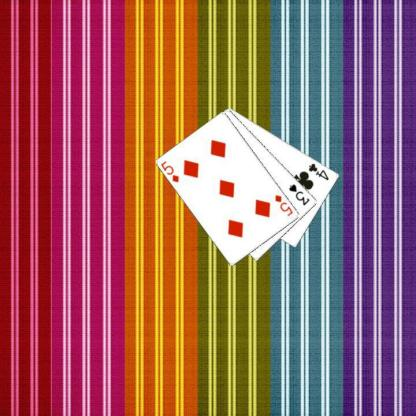3S: (286, 181, 311, 207)
4C: (306, 160, 331, 182)
5D: (158, 158, 180, 184), (273, 192, 294, 218)
